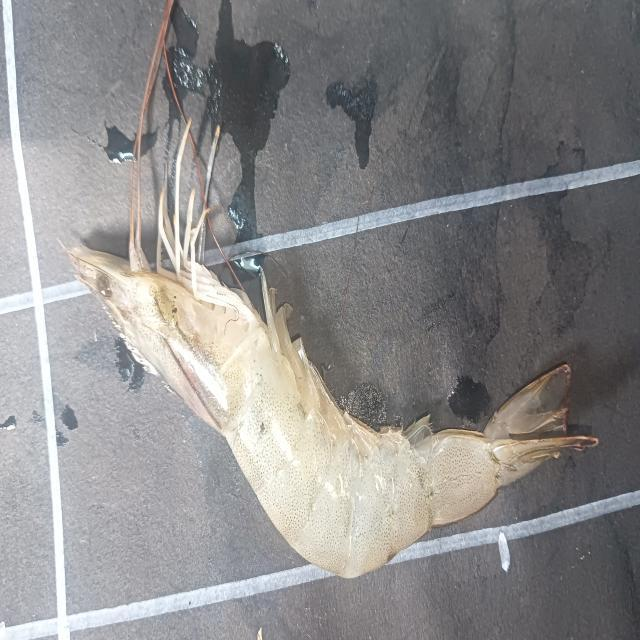shrimp: (68, 124, 598, 578)
